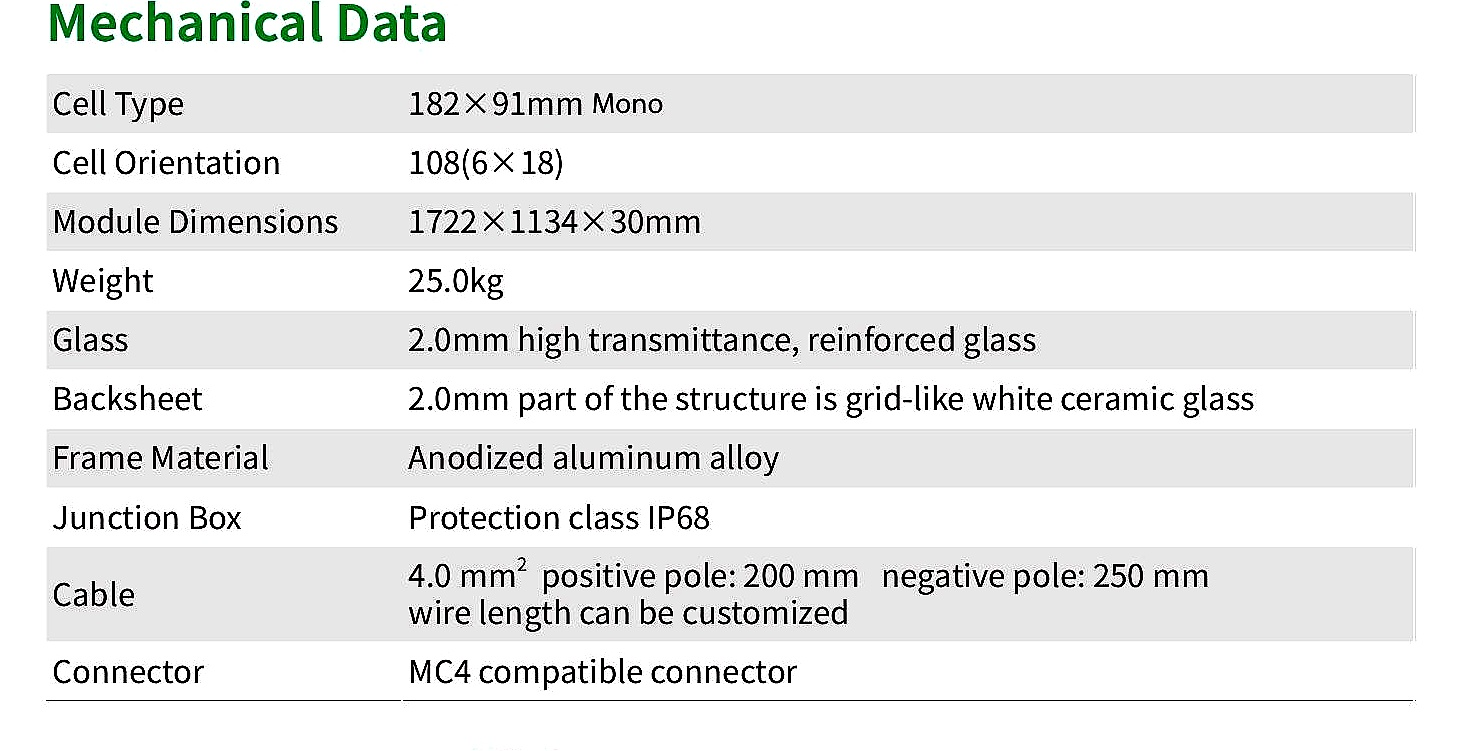table: (34, 68, 1428, 707)
table column: (355, 73, 1413, 700), (43, 73, 352, 697)
table name: (30, 1, 474, 53)
table row: (41, 549, 1419, 643), (42, 312, 1417, 374), (40, 73, 1416, 133), (37, 252, 1419, 310), (40, 134, 1417, 192), (42, 430, 1419, 487), (38, 193, 1417, 247), (40, 375, 1418, 429), (43, 491, 1419, 545), (42, 647, 1418, 700)
table row header: (43, 74, 350, 696)
